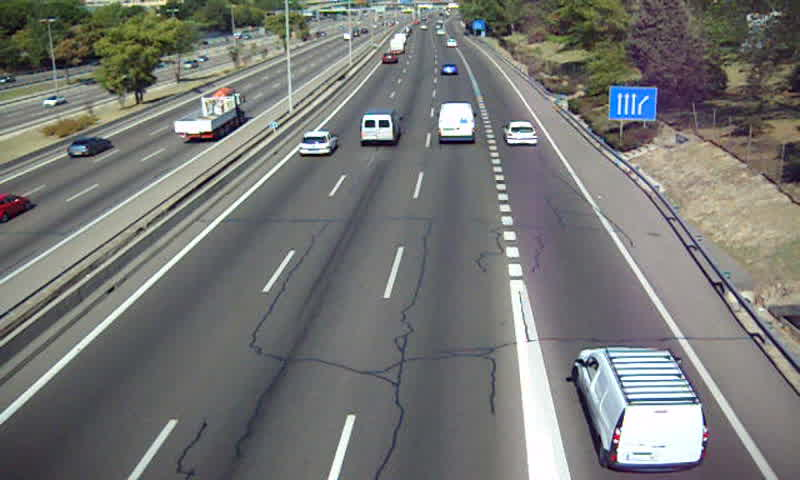car: (298, 129, 338, 156), (503, 120, 538, 146), (440, 63, 458, 78)
van: (576, 346, 707, 473), (361, 108, 403, 144), (439, 102, 475, 143)
